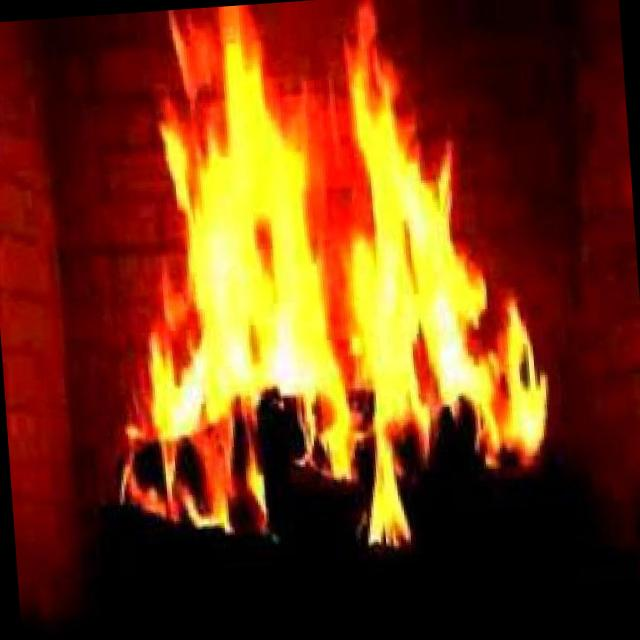Fire: (78, 0, 548, 566)
